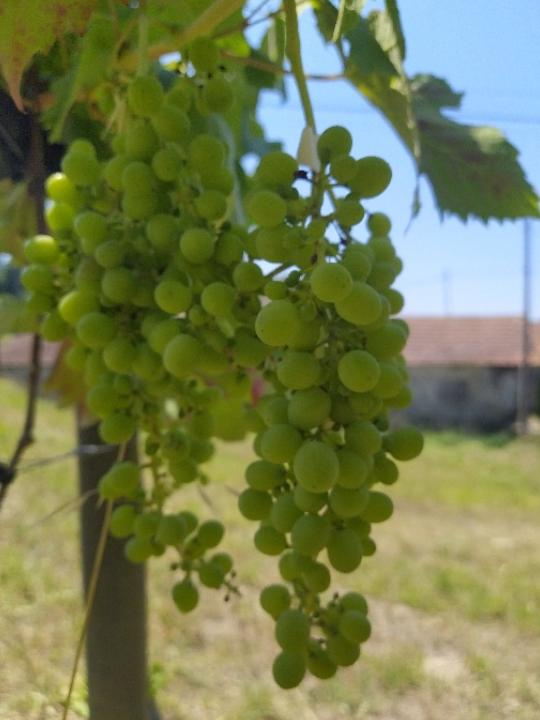grape: (20, 39, 251, 616), (236, 124, 426, 695)
